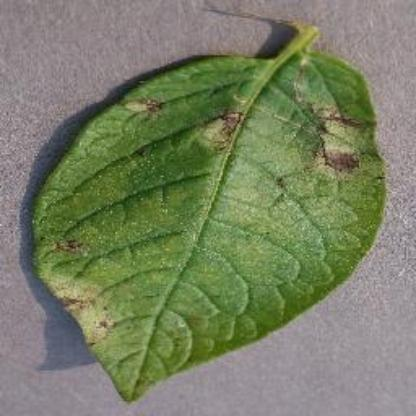Late-Blight: (17, 19, 396, 405)
